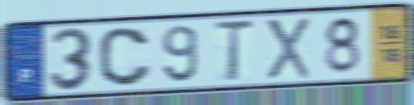3: (47, 26, 96, 93)
8: (323, 15, 363, 76)
9: (160, 24, 199, 85)
C: (96, 25, 155, 88)
T: (210, 17, 257, 84)
X: (263, 16, 313, 82)
